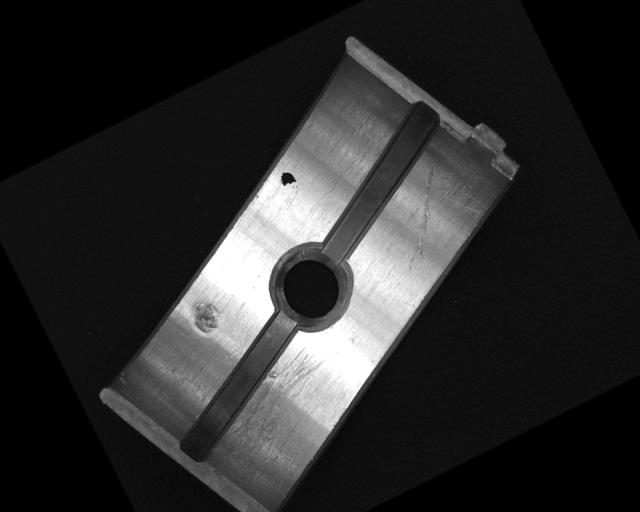blot: (277, 168, 298, 190)
bruise: (186, 296, 226, 337)
gap: (284, 96, 478, 266), (146, 309, 333, 468)
hole: (258, 232, 365, 343)
nick: (369, 162, 474, 273)
scratch: (188, 331, 379, 498)
